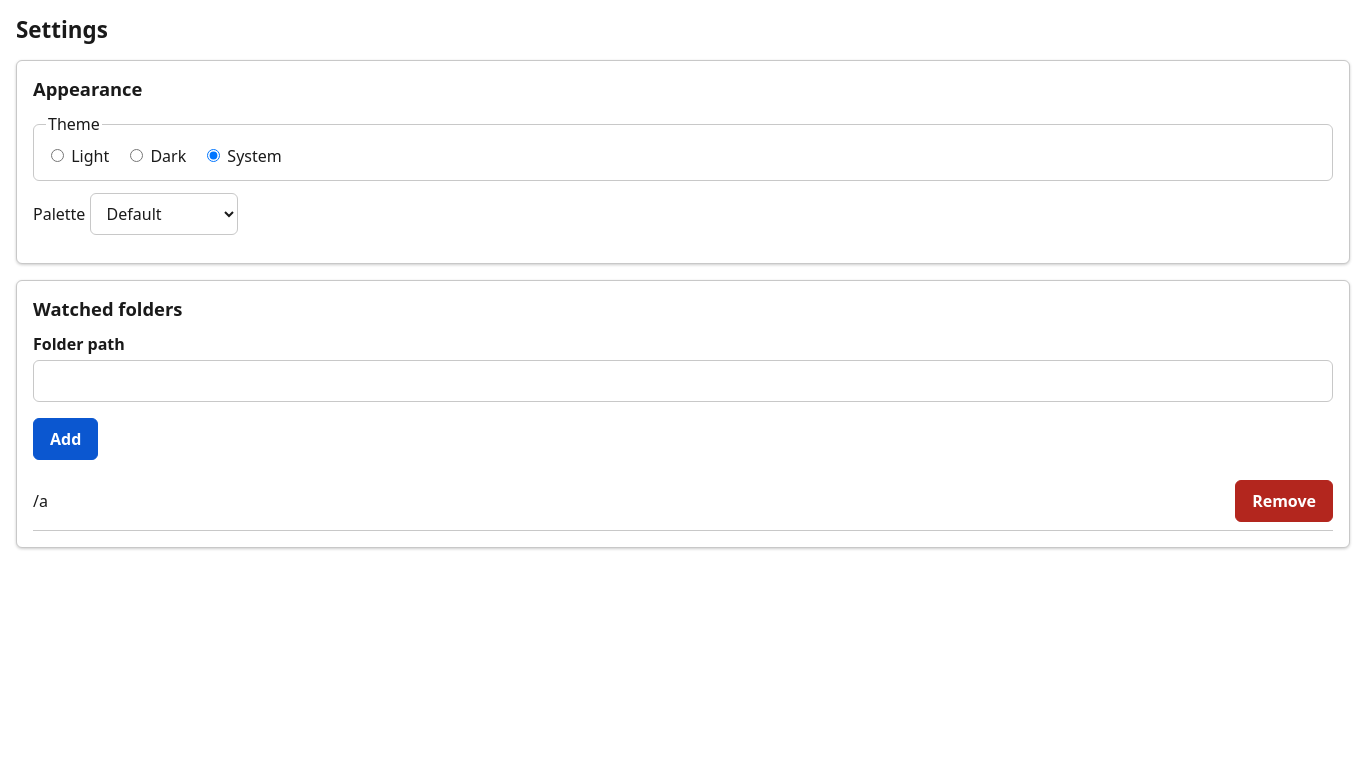
Test: shows 404 detail inline when remove fails
The width and height of the screenshot is (1366, 768).
Expected: the text "/a" is shown, [33,489,48,513]
Click the button "Remove". click: (1284, 501)
box: [1235,480,1333,522]
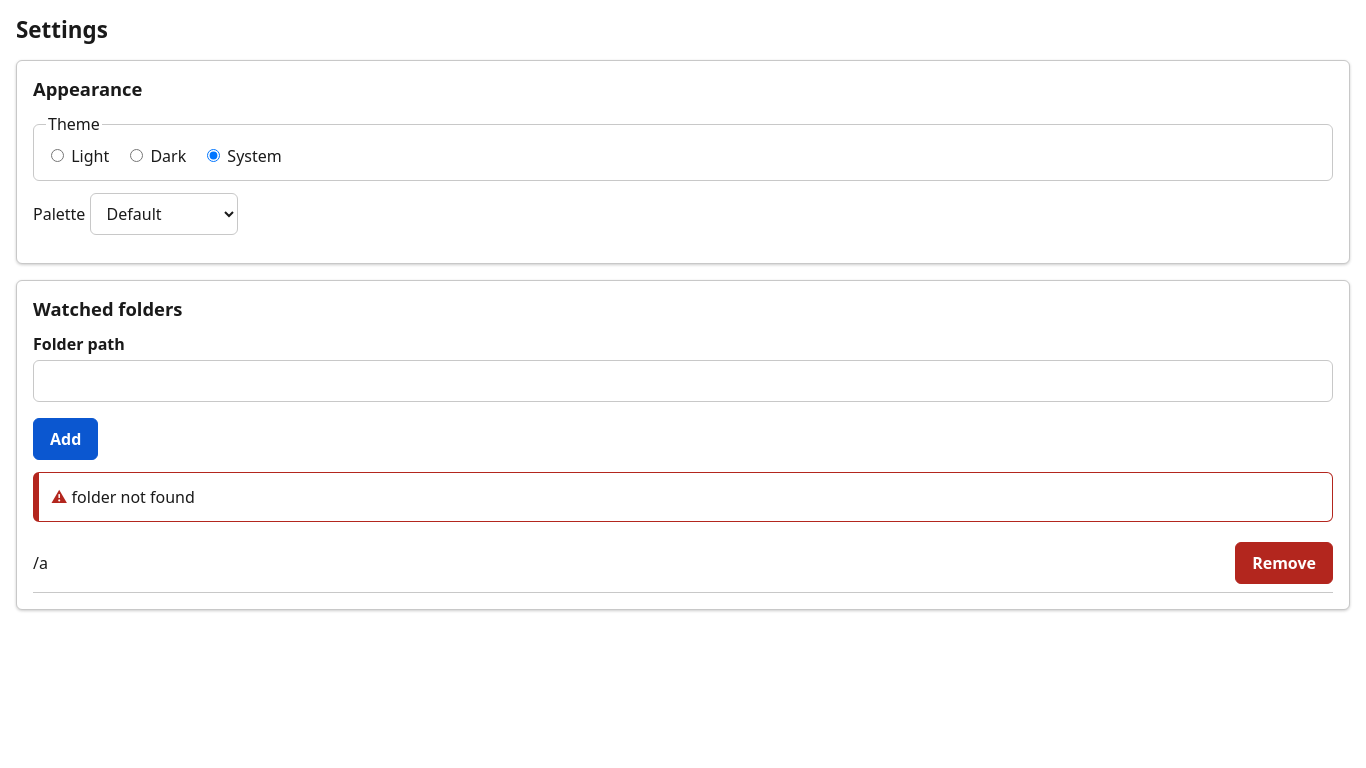
Expected: the text "/a" is shown, [33,551,48,575]
Expected: the message reads "folder not found", [72,486,195,508]
